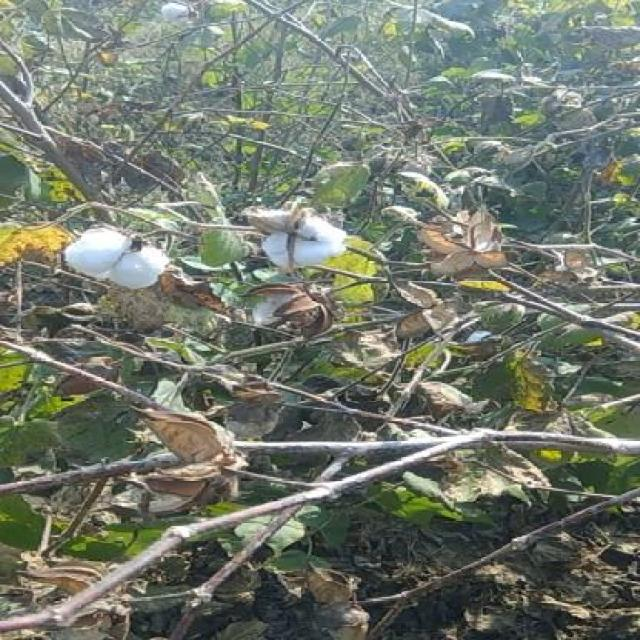cotton_ready: (24, 215, 176, 311), (221, 201, 359, 296)
